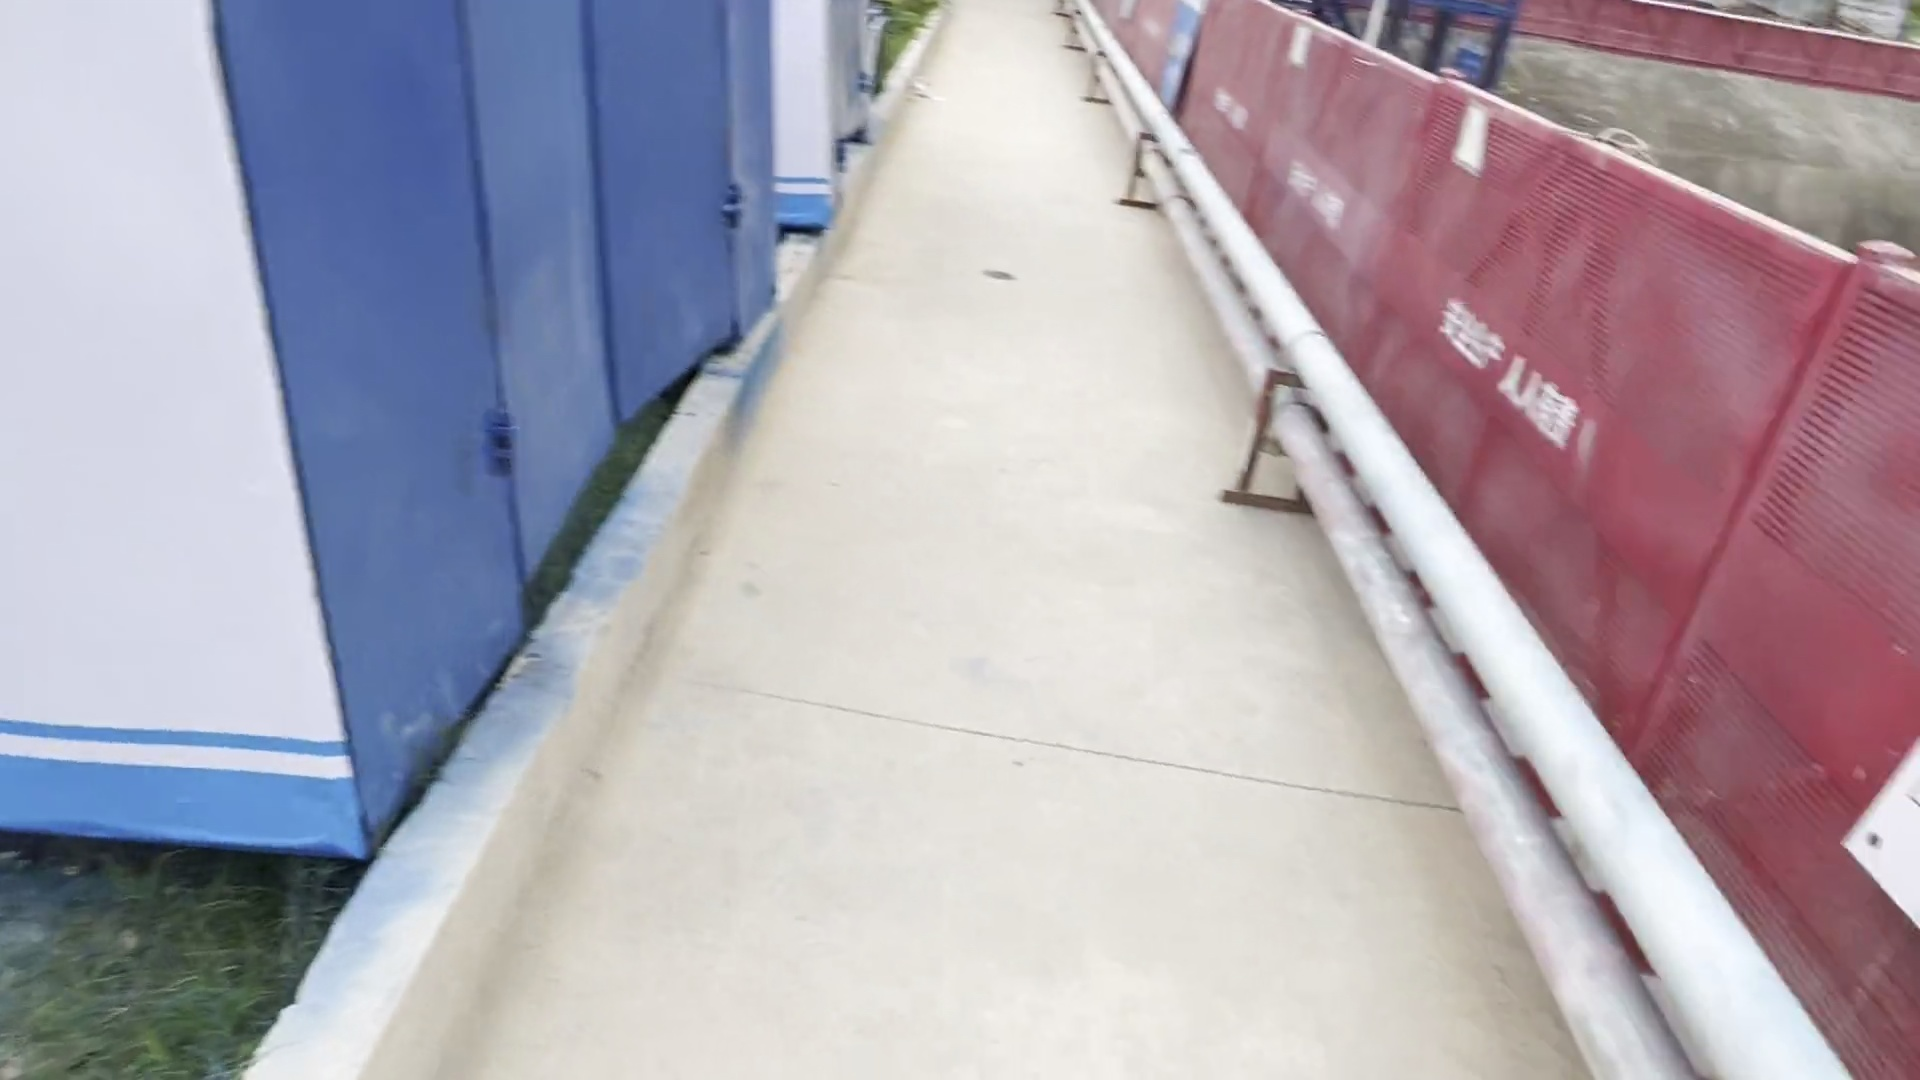fence: (1400, 61, 1818, 819)
